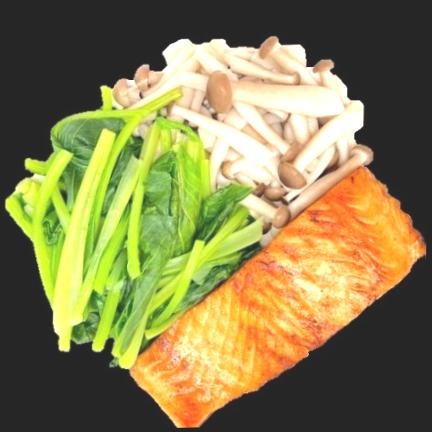fish: (131, 169, 426, 428)
salad: (6, 90, 254, 367)
